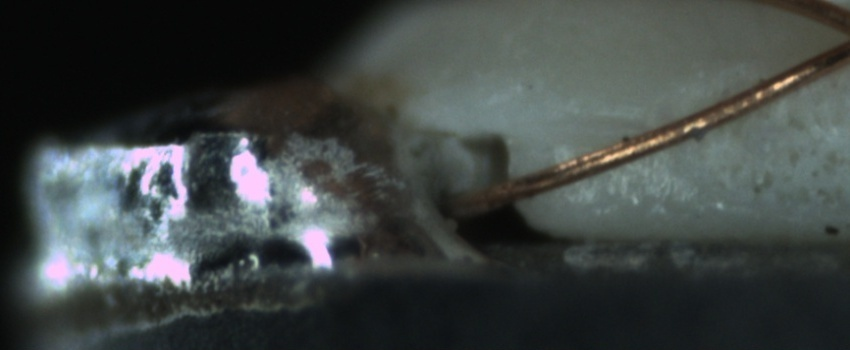DL: (541, 96, 664, 155)
